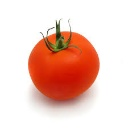tomato: (28, 31, 100, 100)
